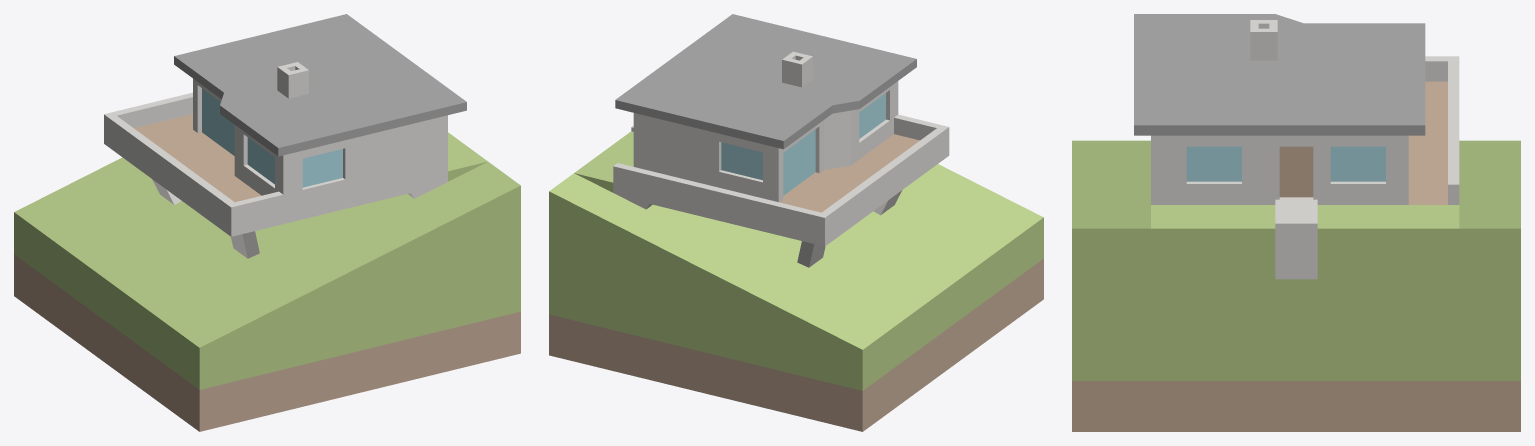
3 renders of one model, left to right at view 1: azimuth 30°, elevation 25°; view 2: azimuth 150°, elevation 25°; view 3: azimuth 270°, elevation 25°, orthographic. The views are drawn at different scales.
Parts seen in each view (by area): view 1: Asset3DLoadersceneRoot; view 2: Asset3DLoadersceneRoot; view 3: Asset3DLoadersceneRoot.
Part boxes in pixels (x1,y1,x2,y2): Asset3DLoadersceneRoot: [14, 14, 520, 431]; Asset3DLoadersceneRoot: [549, 14, 1043, 431]; Asset3DLoadersceneRoot: [1072, 14, 1520, 431].
Size of the model in its own units: 2.5 by 1.96 by 2.5.
Materials: 1 (1 with a texture image).
